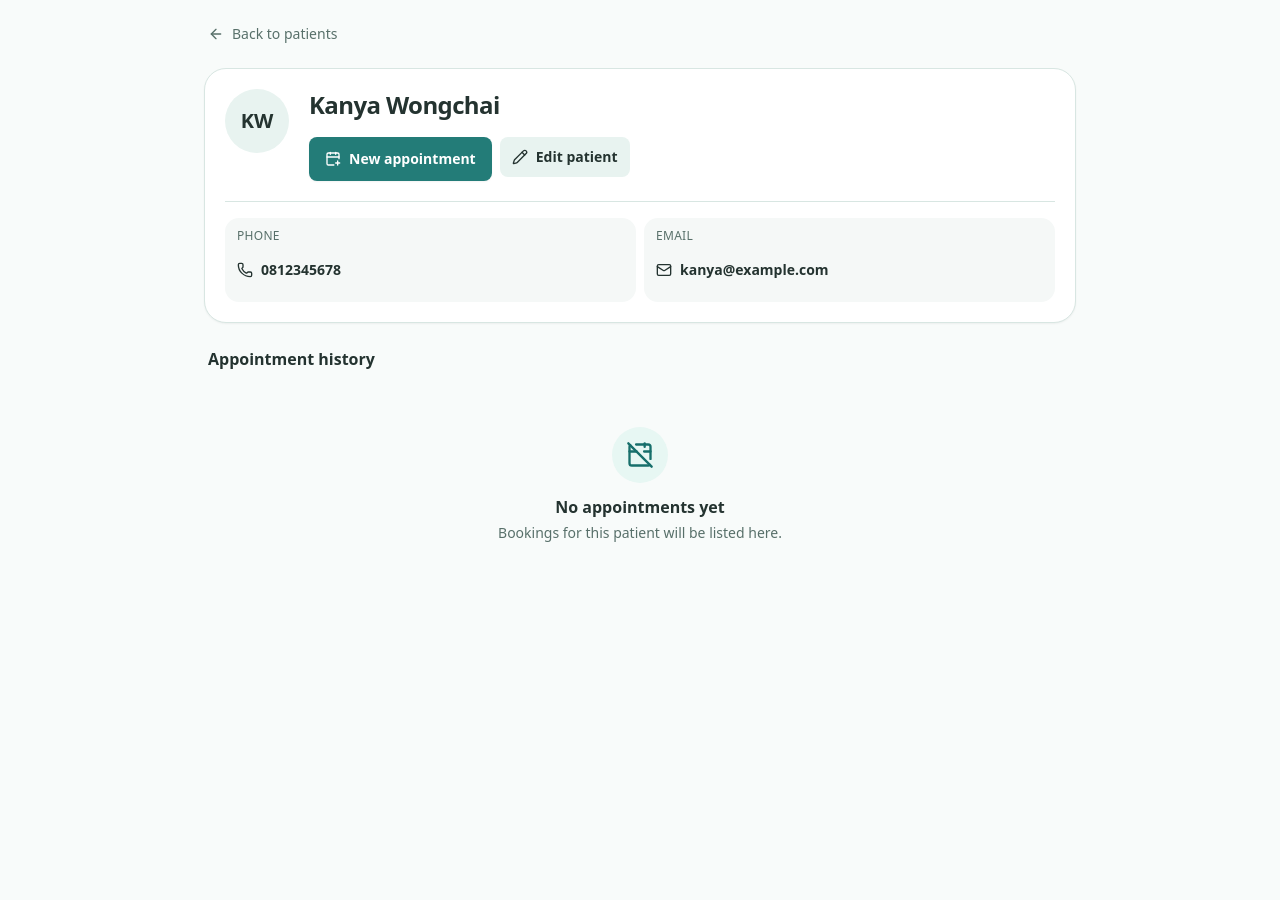
Test: PatientDetail › updates patient details from the edit sheet
Click the button "Edit patient".
click(565, 157)  # box [500,137,630,177]
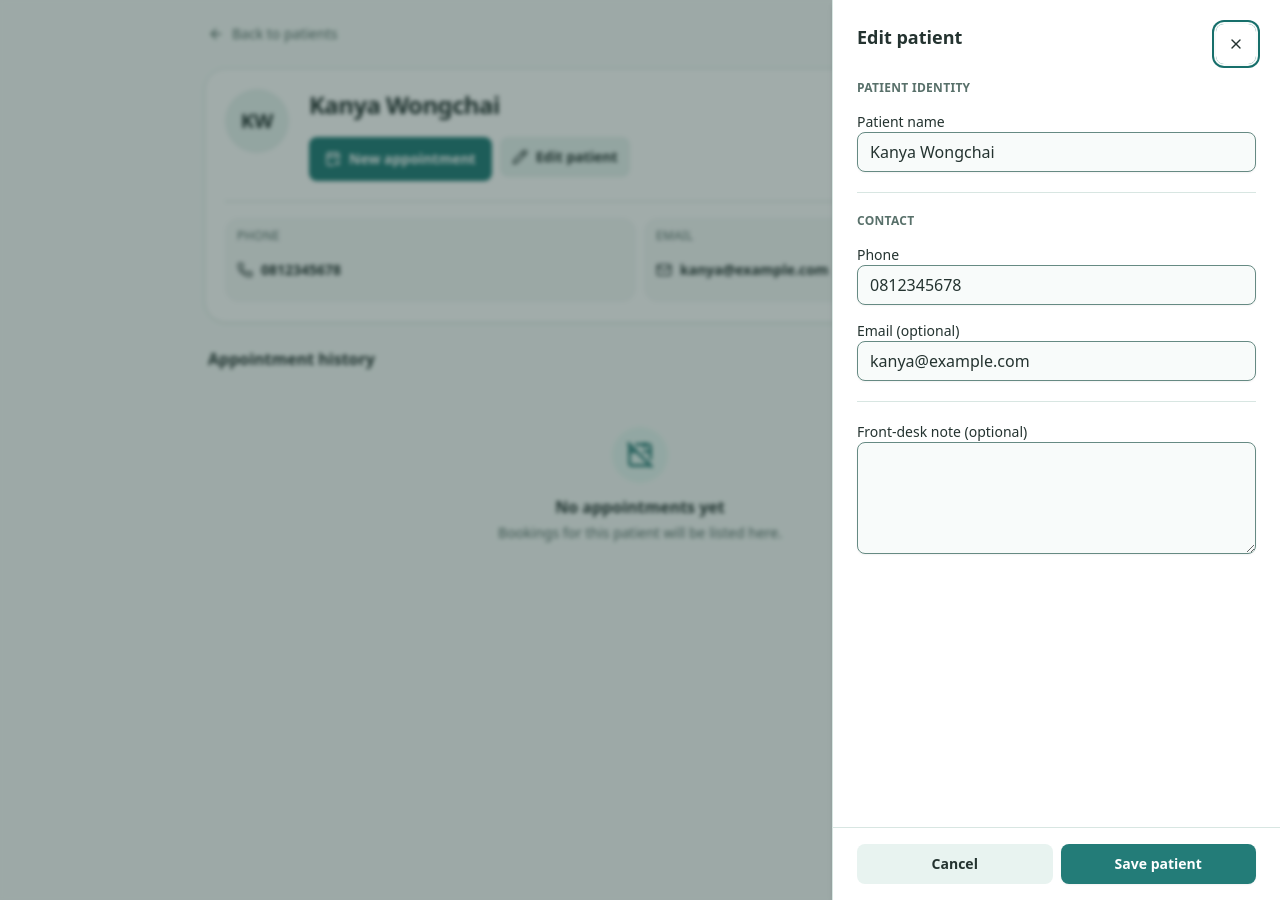
Replace the text in the field labelled "Patient name" with "Kanya Saelim" at x=1056, y=152, box [857,132,1256,172]
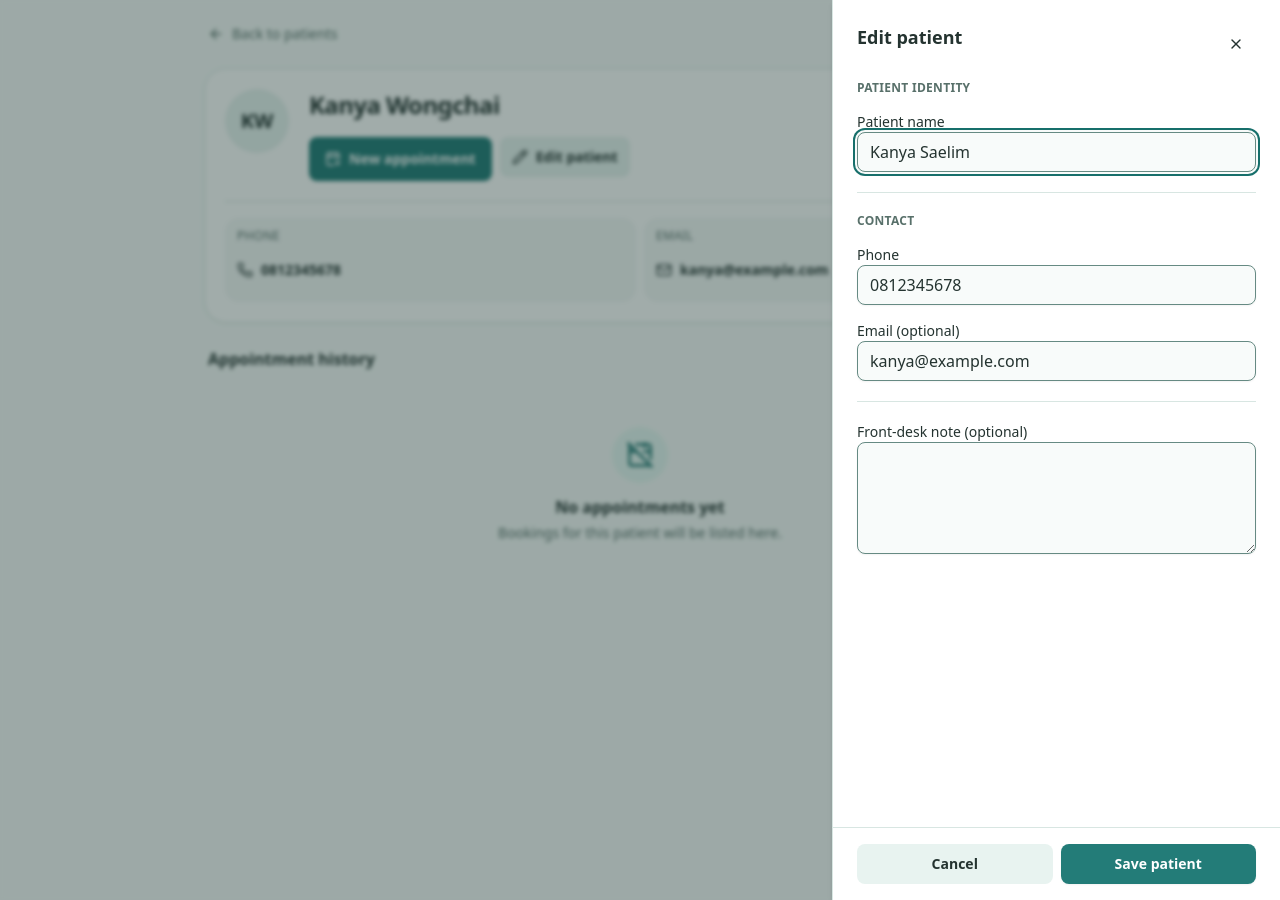
Type "0899999999" into the field labelled "Phone".
click(1056, 285); type("0899999999")  # box [857,265,1256,305]
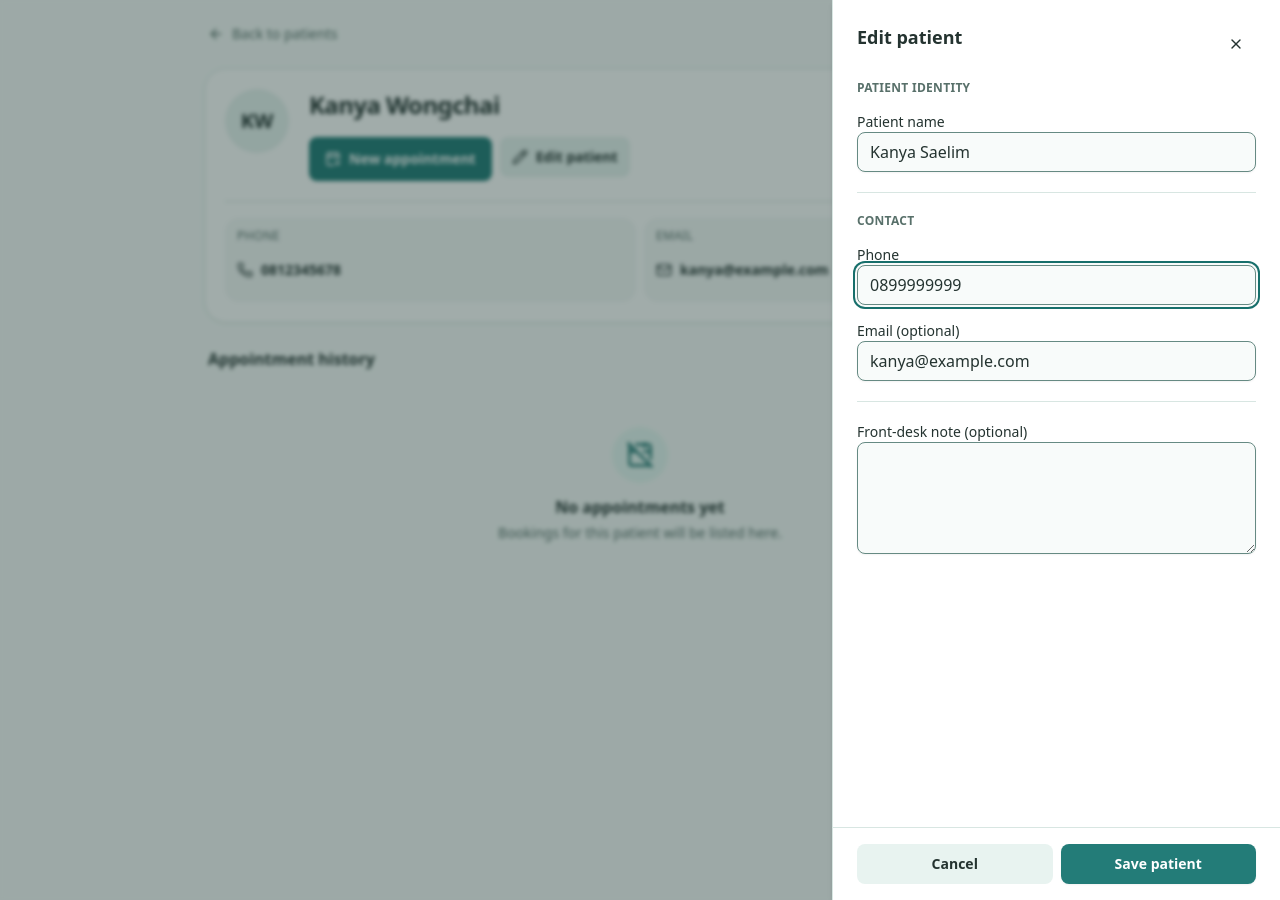
Replace the text in the field labelled "Email (optional)" with "kanya.saelim@example.com" at x=1056, y=361, box [857,341,1256,381]
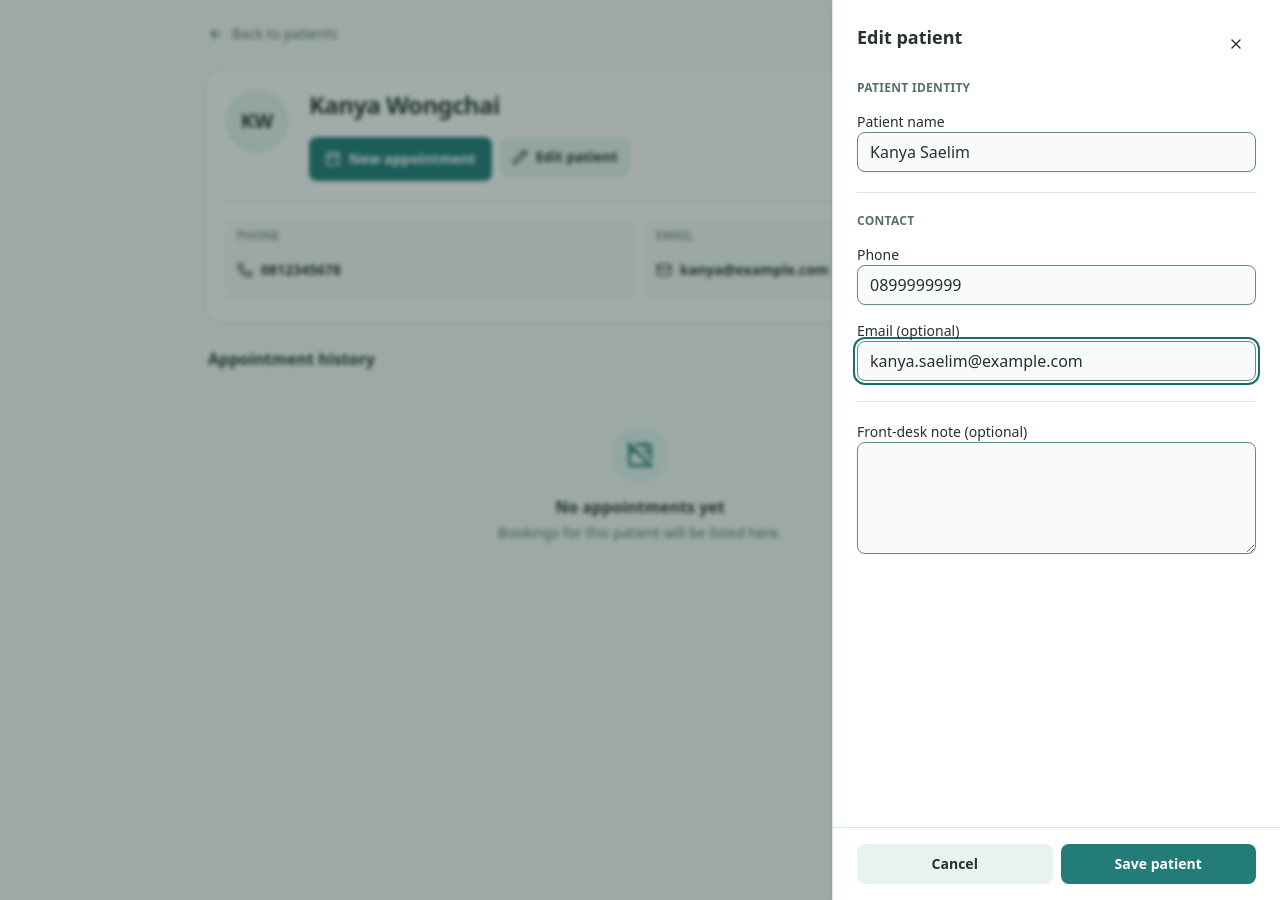
Type "Needs a morning call" into the text box labelled "Front-desk note (optional)".
click(1056, 498); type("Needs a morning call")  # box [857,442,1256,554]
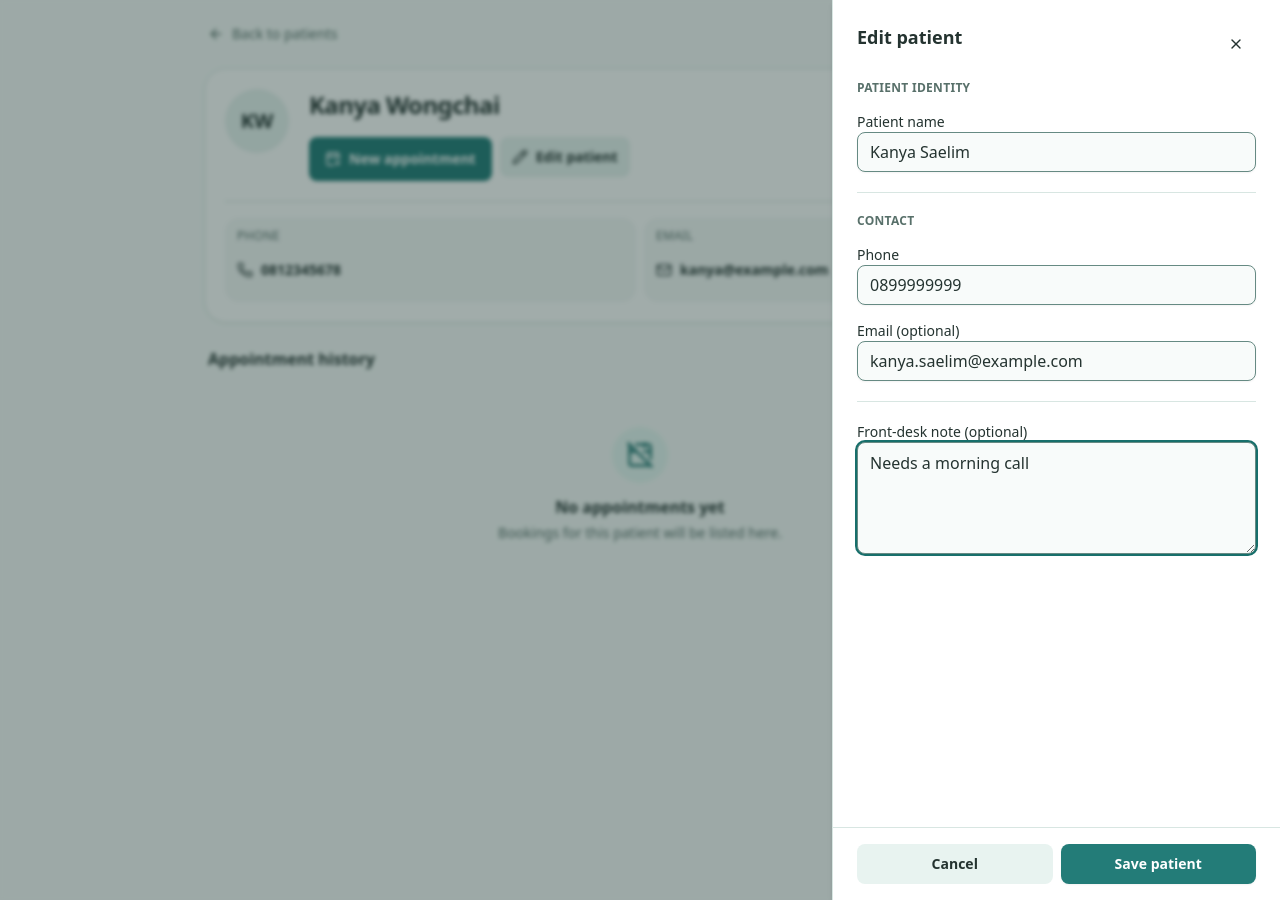
Click the button "Save patient".
click(1158, 864)  # box [1060,844,1256,884]
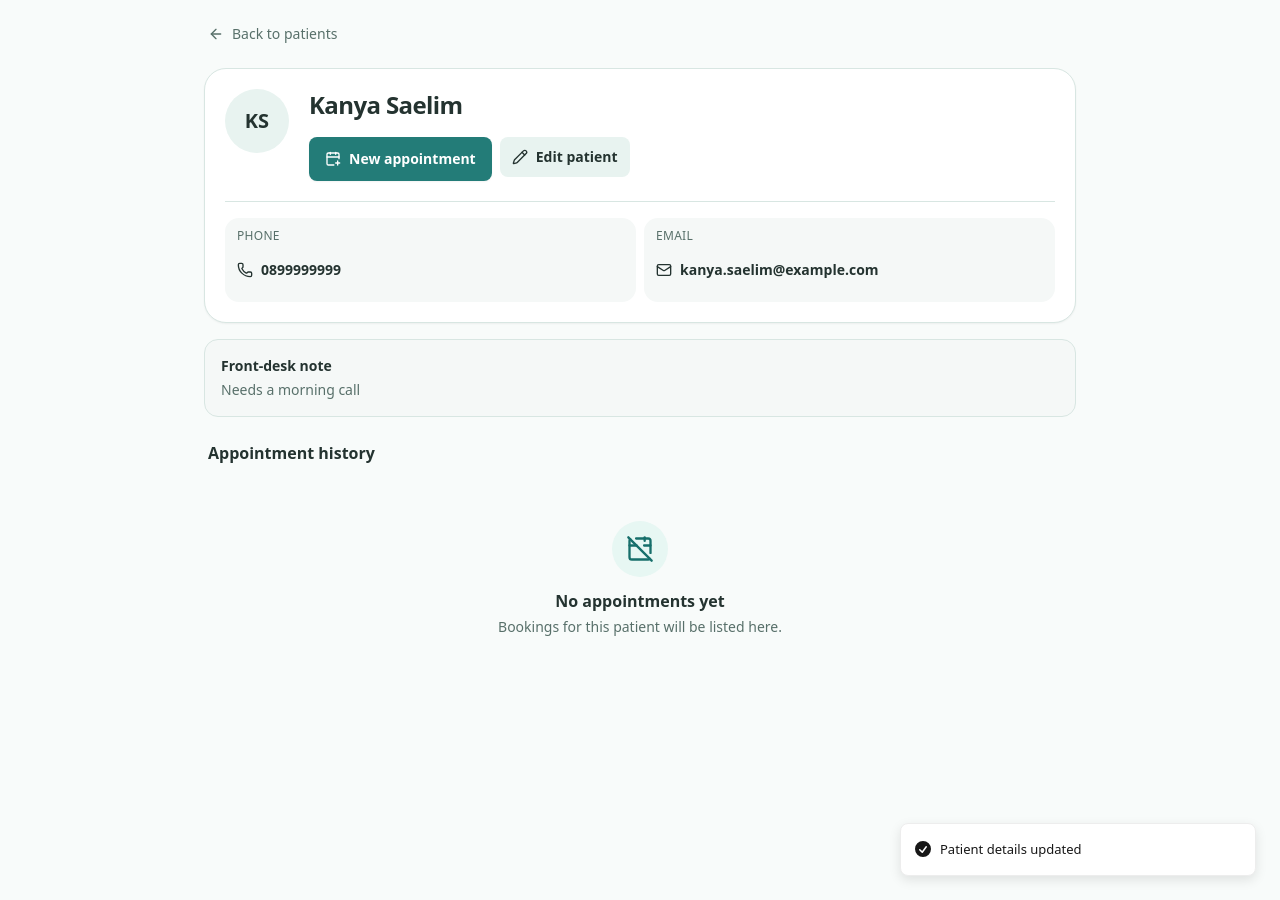
Now the heading "Kanya Saelim" is shown, box [309,88,462,121]
Now the text "Needs a morning call" is shown, box [221,380,360,399]
Now the text "Patient details updated" is shown, box [940,840,1082,859]
